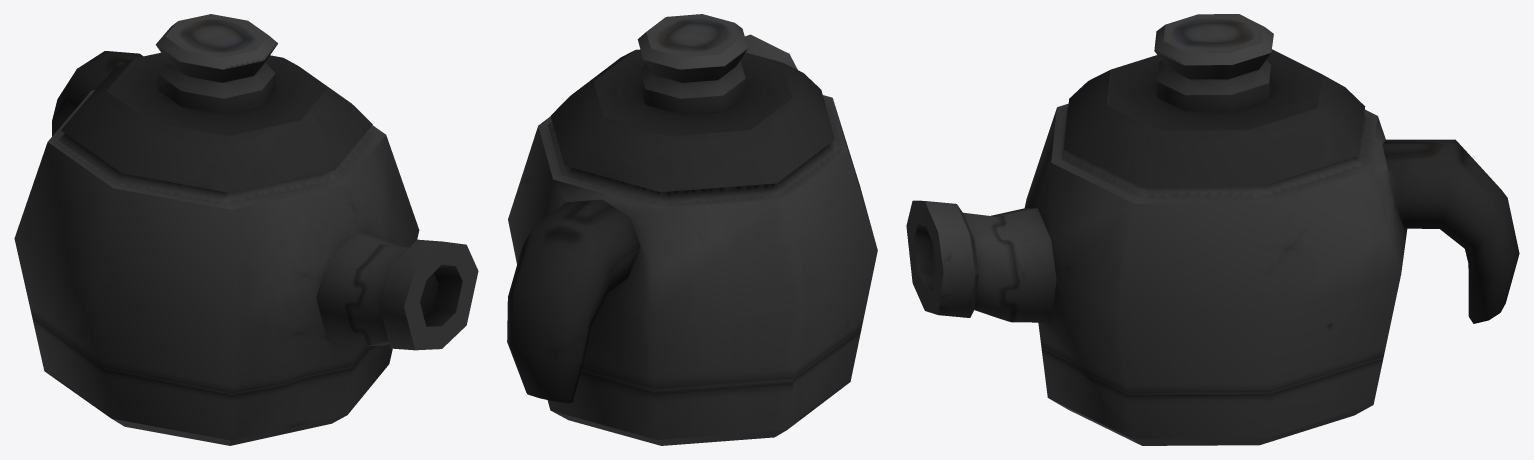
The model's file is m_kettle.fbx.
3 renders of one model, left to right at view 1: azimuth 30°, elevation 25°; view 2: azimuth 150°, elevation 25°; view 3: azimuth 270°, elevation 25°, orthographic. The views are drawn at different scales.
Visible parts, largest first — view 1: m_kettle_1; view 2: m_kettle_1; view 3: m_kettle_1.
Part boxes in pixels (bbox=[...]): m_kettle_1: bbox=[14, 14, 478, 445]; m_kettle_1: bbox=[507, 14, 877, 445]; m_kettle_1: bbox=[906, 14, 1519, 445].
Bounding box in the file's own units: 30.46 × 32.28 × 50.64.
